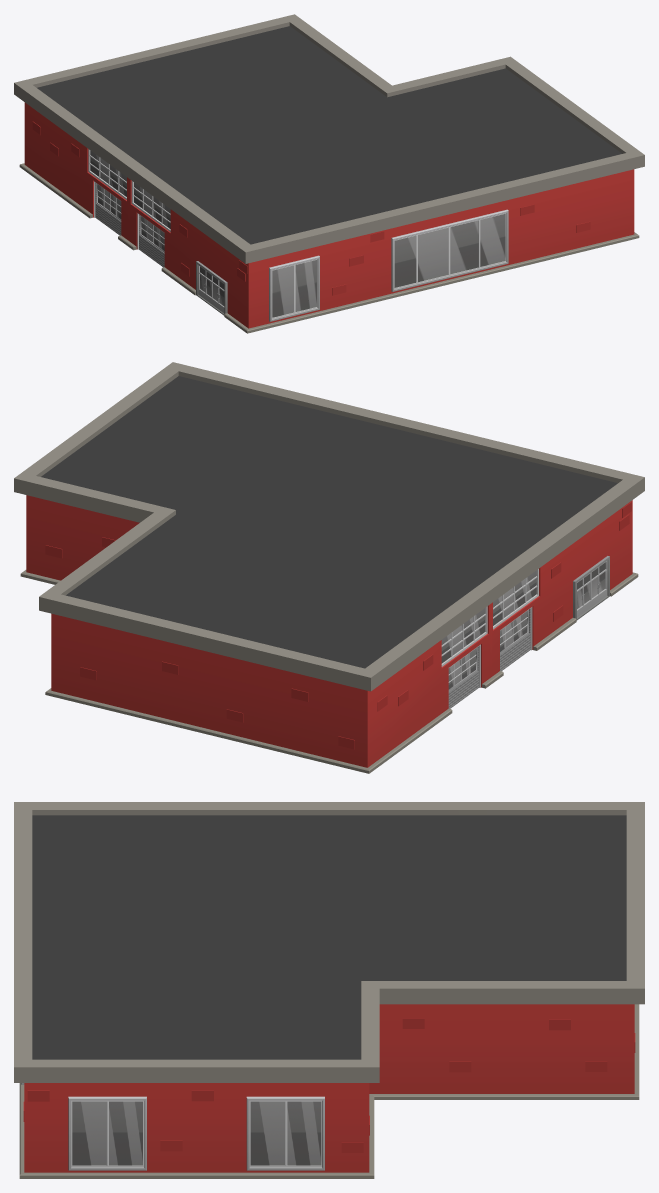
File: Building_22_2_A.fbx
The picture shows the model from 3 angles, top to bottom: view 1: azimuth 30°, elevation 25°; view 2: azimuth 150°, elevation 25°; view 3: azimuth 270°, elevation 25°; orthographic projection. The views are drawn at different scales.
Visible parts, largest first — view 1: Building_22_2_A; view 2: Building_22_2_A; view 3: Building_22_2_A.
Boxes of the visible parts, left/top/right/bottom form: Building_22_2_A: left=14, top=14, right=644, bottom=333; Building_22_2_A: left=14, top=362, right=644, bottom=773; Building_22_2_A: left=14, top=802, right=644, bottom=1178.
Size of the model in its own units: 3108 by 622 by 3125.
